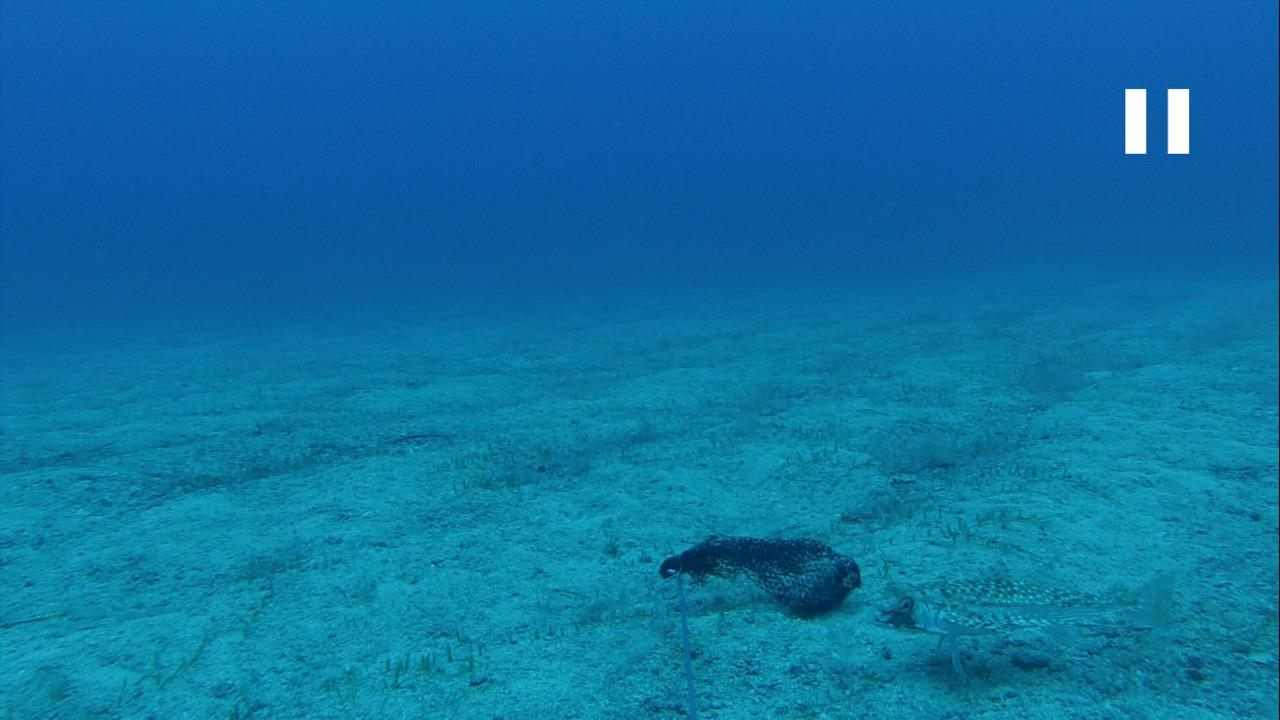dactylopterus: (870, 553, 1179, 665)
